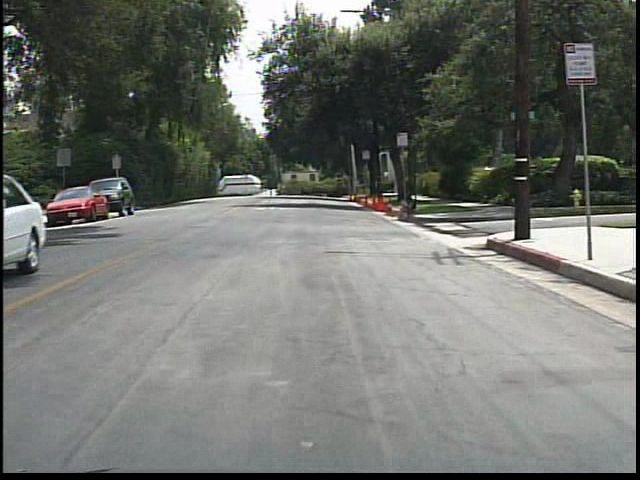person: (396, 191, 425, 223)
